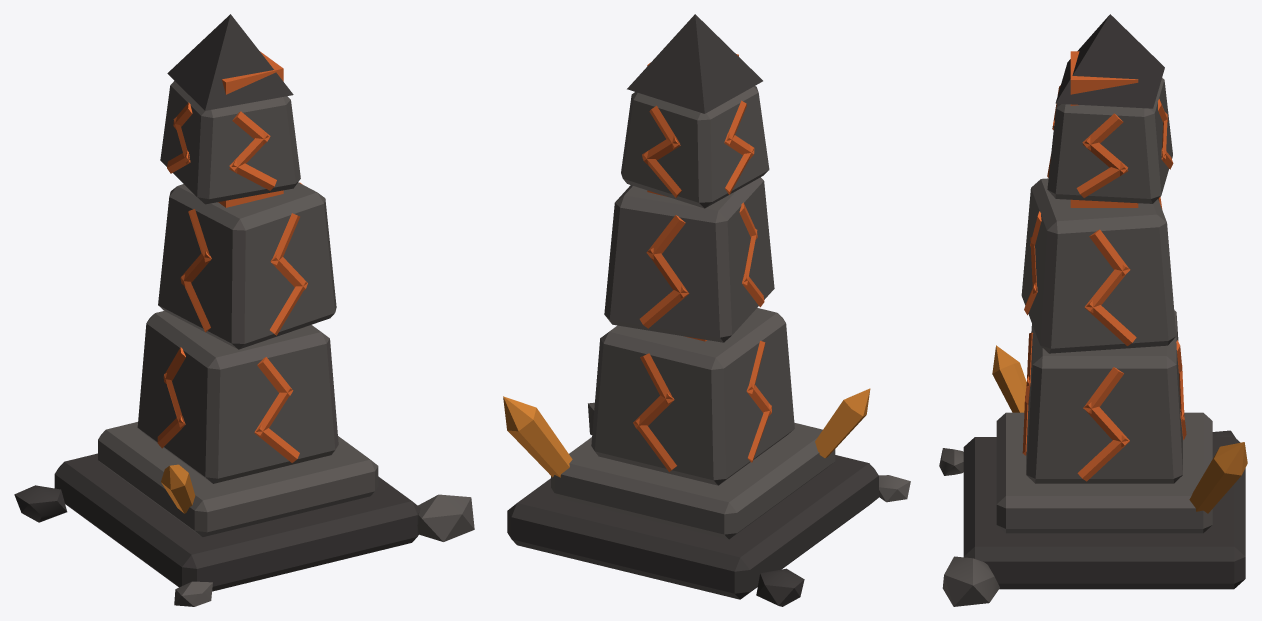
Rendered from heart_spire.fbx.
The picture shows the model from 3 angles, left to right: view 1: azimuth 30°, elevation 25°; view 2: azimuth 150°, elevation 25°; view 3: azimuth 270°, elevation 25°; orthographic projection.
Parts seen in each view (by area): view 1: heart_spire; view 2: heart_spire; view 3: heart_spire.
Part boxes in pixels (left/top/right/bottom): heart_spire: left=14, top=14, right=474, bottom=606; heart_spire: left=503, top=14, right=910, bottom=606; heart_spire: left=939, top=14, right=1247, bottom=606.
Size of the model in its own units: 2.07 by 3.07 by 1.64.
